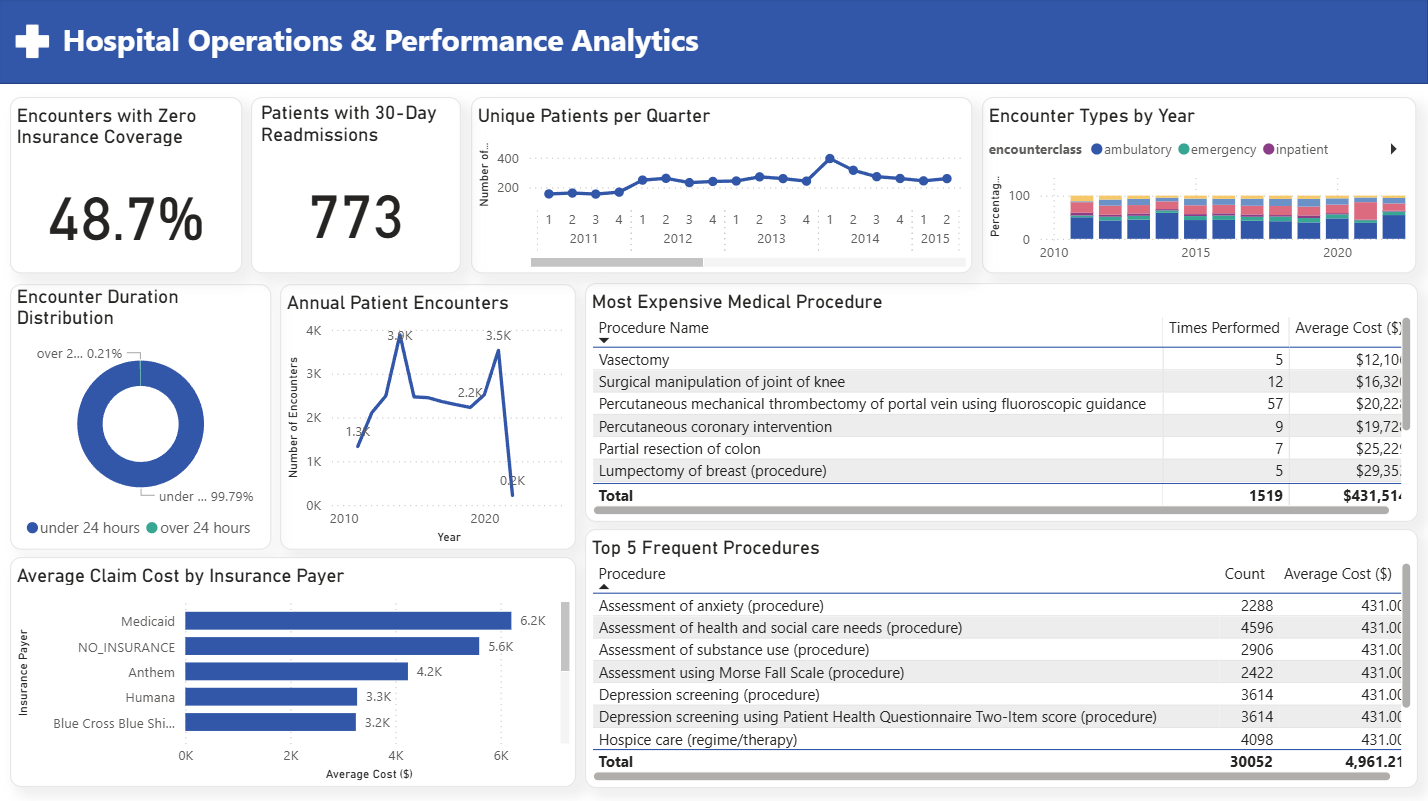

What the dashboard file says about the page in this screenshot:
{"tool":"powerbi","page":{"name":"Dashboard","canvas":[1280,720],"ordinal":0},"visuals":[{"type":"lineChart","title":"Annual Patient Encounters","fields":{"Category":["hospital_db kpi_encounters_by_year.year"],"Y":["Sum(hospital_db kpi_encounters_by_year.total_encounters)"]},"box":[252,256,265,238],"z":0},{"type":"donutChart","title":"Encounter Duration Distribution","fields":{"Category":["hospital_db kpi_encounter_duration.duration_category"],"Y":["Sum(hospital_db kpi_encounter_duration.count)"]},"box":[10,256,234,238],"z":1000},{"type":"card","title":"Encounters with Zero Insurance Coverage","fields":{"Values":["Sum(hospital_db kpi_zero_coverage.percentage)"]},"box":[10,89,208,158],"z":2000},{"type":"columnChart","title":"Encounter Types by Year","fields":{"Category":["hospital_db kpi_encounter_classes.year"],"Y":["Sum(hospital_db kpi_encounter_classes.percentage)"],"Series":["hospital_db kpi_encounter_classes.encounterclass"]},"box":[880,89,389,158],"z":3000},{"type":"tableEx","title":"Most Expensive Medical Procedure","fields":{"Values":["hospital_db kpi_expensive_procedures.description","Sum(hospital_db kpi_expensive_procedures.procedure_count)","Sum(hospital_db kpi_expensive_procedures.avg_cost)"]},"box":[524.5,255.5,746.4,213.6],"z":4000},{"type":"clusteredBarChart","title":"Average Claim Cost by Insurance Payer","fields":{"Category":["hospital_db kpi_cost_by_payer.payer_name"],"Y":["Sum(hospital_db kpi_cost_by_payer.avg_claim_cost)"]},"box":[10,501,507,206],"z":5000},{"type":"lineChart","title":"Unique Patients per Quarter","fields":{"Category":["hospital_db kpi_patients_per_quarter.year","hospital_db kpi_patients_per_quarter.quarter"],"Y":["Sum(hospital_db kpi_patients_per_quarter.unique_patients)"]},"box":[423,89,449,158],"z":6000},{"type":"card","title":"Patients with 30-Day Readmissions","fields":{"Values":["Sum(hospital_db kpi_readmissions_count.readmitted_patients)"]},"box":[226,89,188,158],"z":7000},{"type":"shape","box":[0,0,1280,77],"z":8000},{"type":"textbox","box":[52.2,13.3,595.6,50],"z":11000},{"type":"tableEx","title":"Top 5 Frequent Procedures","fields":{"Values":["hospital_db kpi_frequent_procedures.description","Sum(hospital_db kpi_frequent_procedures.procedure_count)","Sum(hospital_db kpi_frequent_procedures.avg_cost)"]},"box":[524.7,475.3,746.5,231.8],"z":12000},{"type":"image","box":[10,18.9,40,40],"z":13000}]}

Visuals, with their boxes in screenshot pixels (x1, y1, x2, y2), scaled from the page's 1280x720 canvas onto the 1428x801 screenshot:
"Annual Patient Encounters" lineChart: x1=281, y1=285, x2=577, y2=550
"Encounter Duration Distribution" donutChart: x1=11, y1=285, x2=272, y2=550
"Encounters with Zero Insurance Coverage" card: x1=11, y1=99, x2=243, y2=275
"Encounter Types by Year" columnChart: x1=982, y1=99, x2=1416, y2=275
"Most Expensive Medical Procedure" tableEx: x1=585, y1=284, x2=1418, y2=522
"Average Claim Cost by Insurance Payer" clusteredBarChart: x1=11, y1=557, x2=577, y2=787
"Unique Patients per Quarter" lineChart: x1=472, y1=99, x2=973, y2=275
"Patients with 30-Day Readmissions" card: x1=252, y1=99, x2=462, y2=275
shape: x1=0, y1=0, x2=1427, y2=86
textbox: x1=58, y1=15, x2=723, y2=70
"Top 5 Frequent Procedures" tableEx: x1=585, y1=529, x2=1418, y2=787
image: x1=11, y1=21, x2=56, y2=66
